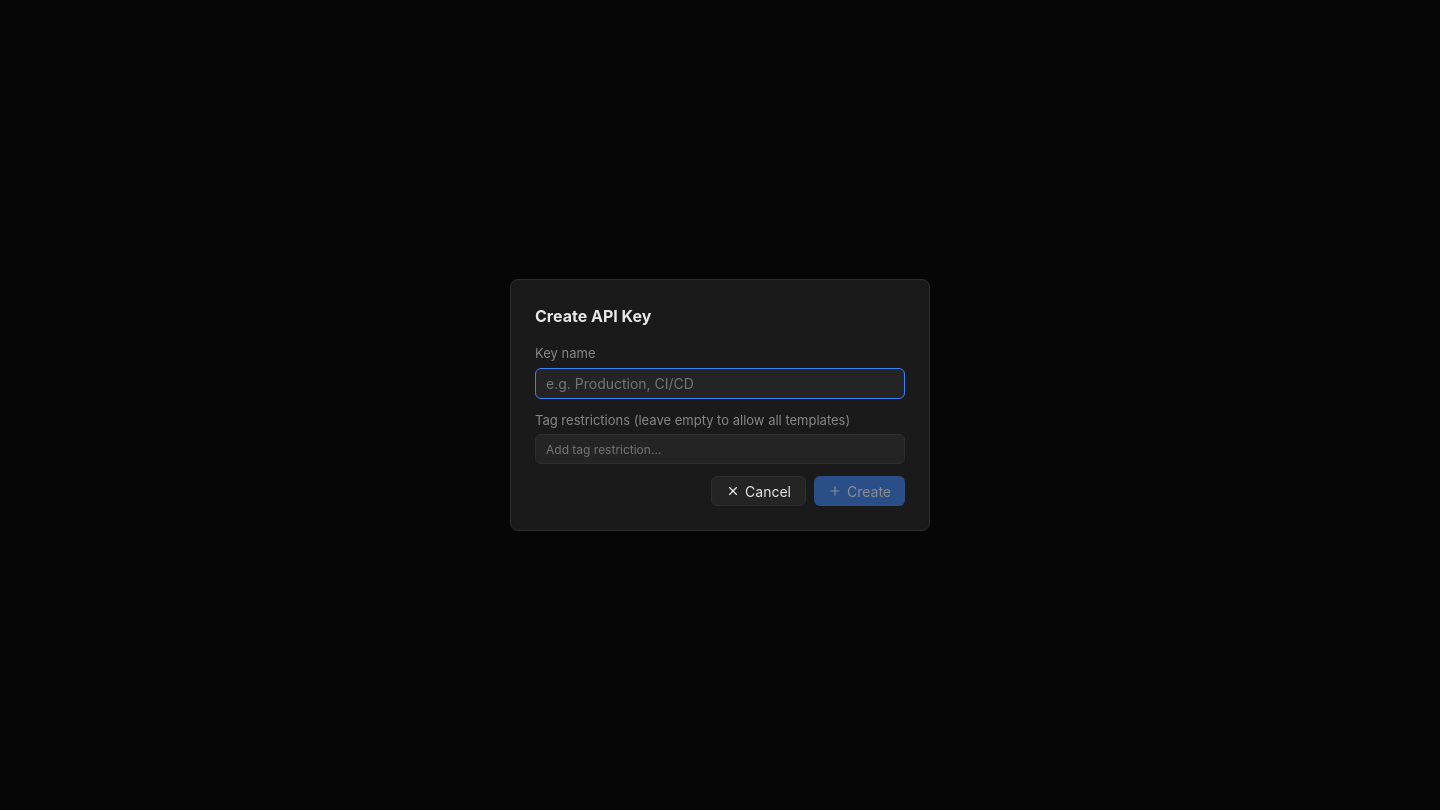
Test: createApiKeyModal component › shows loading state while creating
Type "Key" into the field with test id "api-key-name-input" at coordinates (720, 383), box [535,368,905,398]
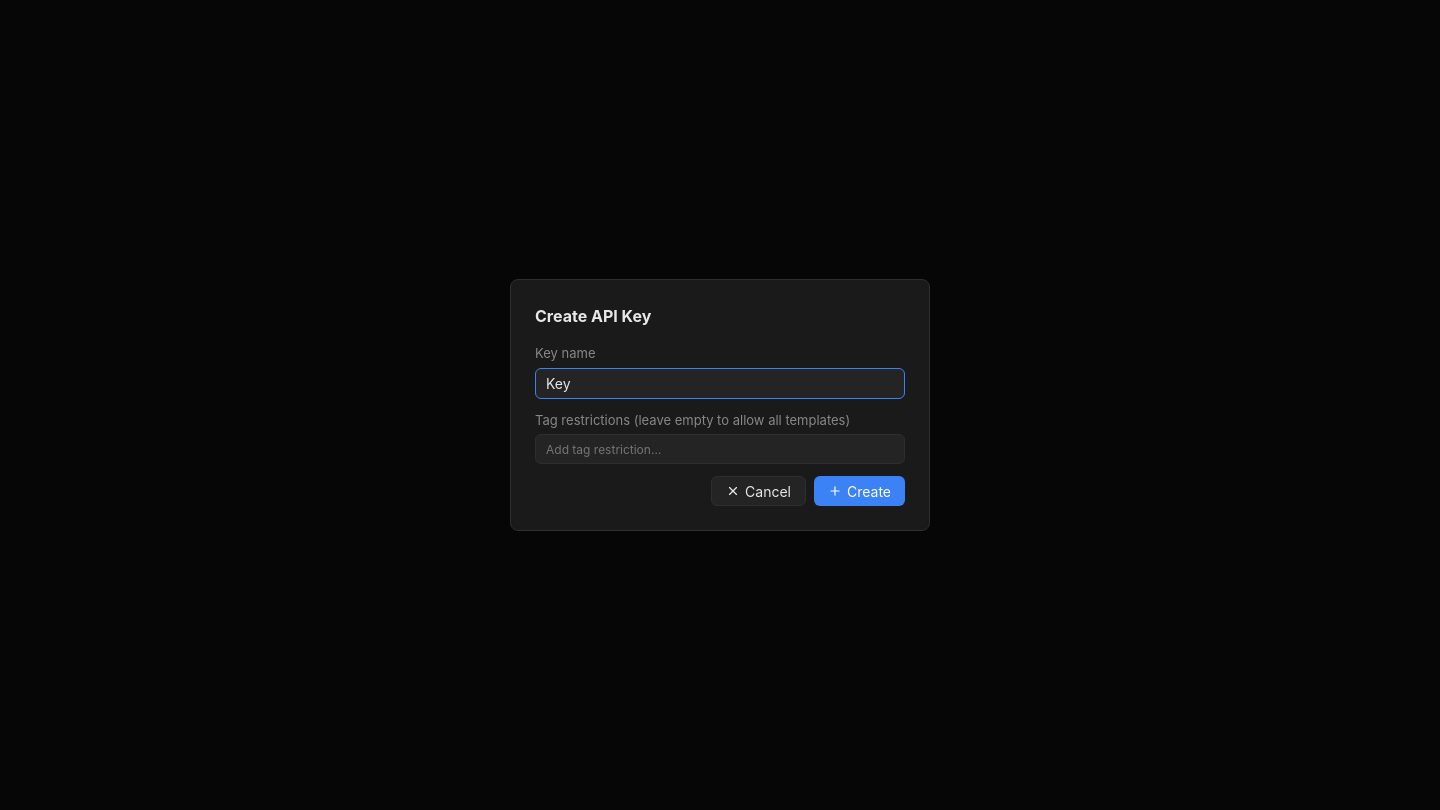
Click the button with test id "modal-create-btn" at coordinates (860, 491), box [814,476,905,506]
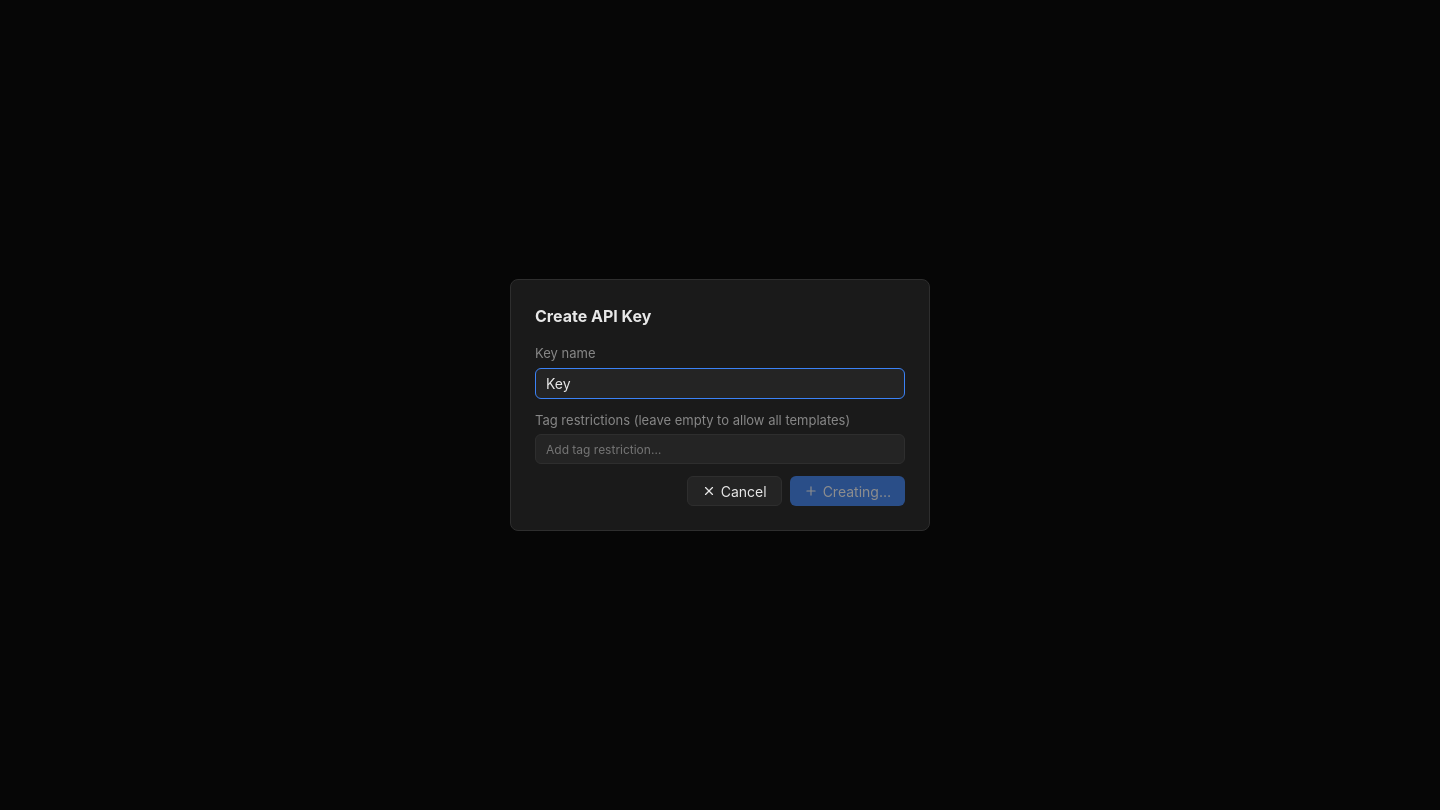
Now the button with test id "modal-create-btn" reads "Creating…", box [790,476,905,506]
